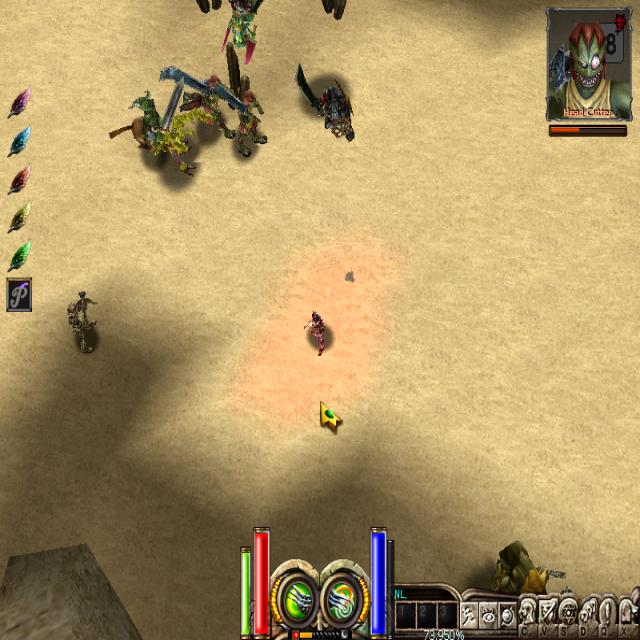monster: (294, 54, 382, 175), (217, 61, 274, 177), (148, 109, 214, 198), (174, 54, 227, 152), (69, 279, 112, 374)
